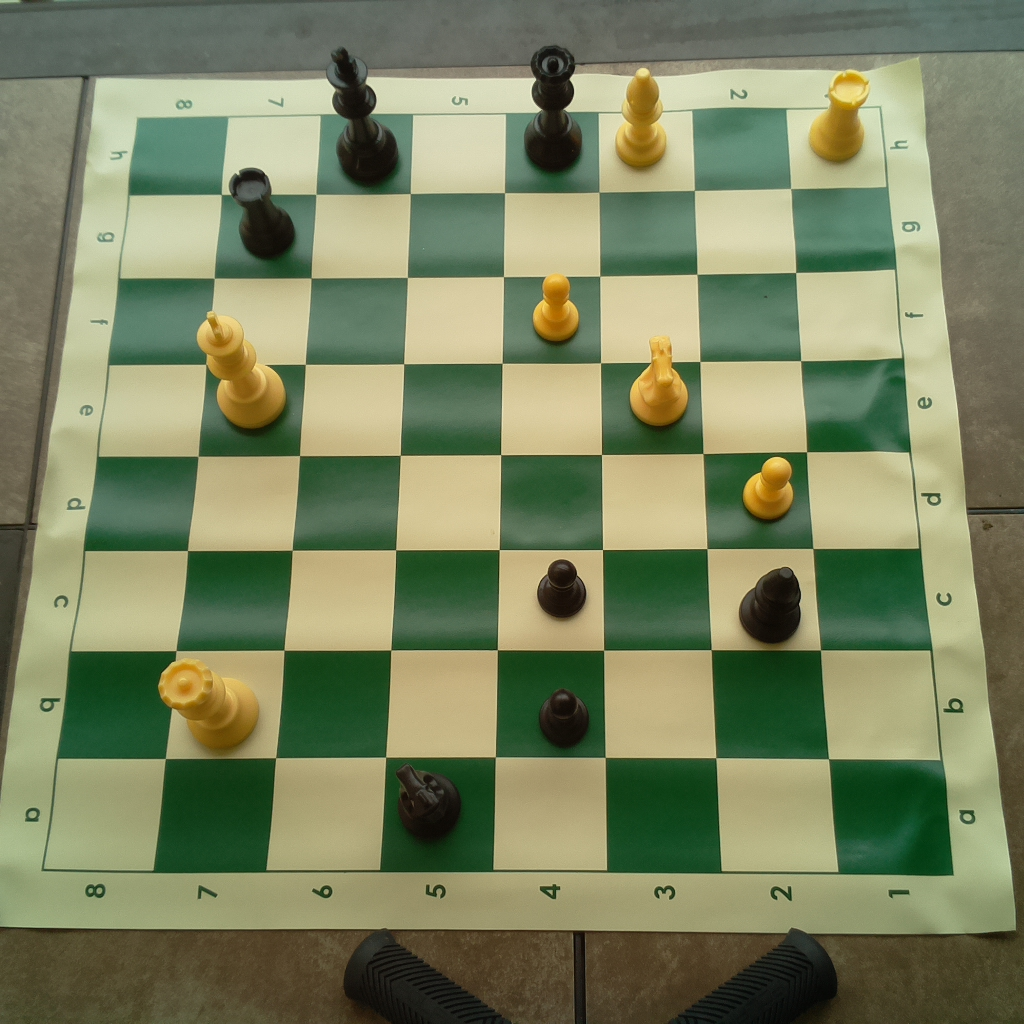black_bishop: (736, 561, 807, 644)
black_king: (323, 38, 407, 187)
black_knight: (394, 760, 464, 841)
black_pawn: (529, 553, 593, 621), (537, 683, 594, 748)
black_queen: (518, 41, 586, 174)
black_rook: (223, 165, 302, 262)
file_a: (41, 760, 953, 875)
file_b: (55, 652, 942, 762)
file_c: (72, 552, 932, 651)
file_d: (83, 456, 921, 548)
file_e: (97, 358, 910, 453)
file_f: (108, 269, 906, 361)
file_g: (119, 187, 893, 279)
file_h: (128, 104, 892, 187)
outline: (38, 105, 957, 877)
rank_1: (788, 106, 955, 875)
rank_2: (692, 109, 842, 873)
rank_3: (598, 110, 723, 873)
rank_4: (493, 110, 607, 871)
rank_5: (377, 113, 508, 871)
rank_6: (264, 114, 414, 869)
rank_7: (153, 117, 321, 869)
rank_8: (40, 115, 228, 870)
white_bishop: (611, 62, 672, 169)
white_king: (189, 304, 289, 434)
white_knight: (625, 326, 690, 426)
white_pawn: (528, 269, 585, 349), (744, 452, 796, 522)
white_queen: (153, 656, 266, 753)
white_rook: (805, 64, 875, 167)
